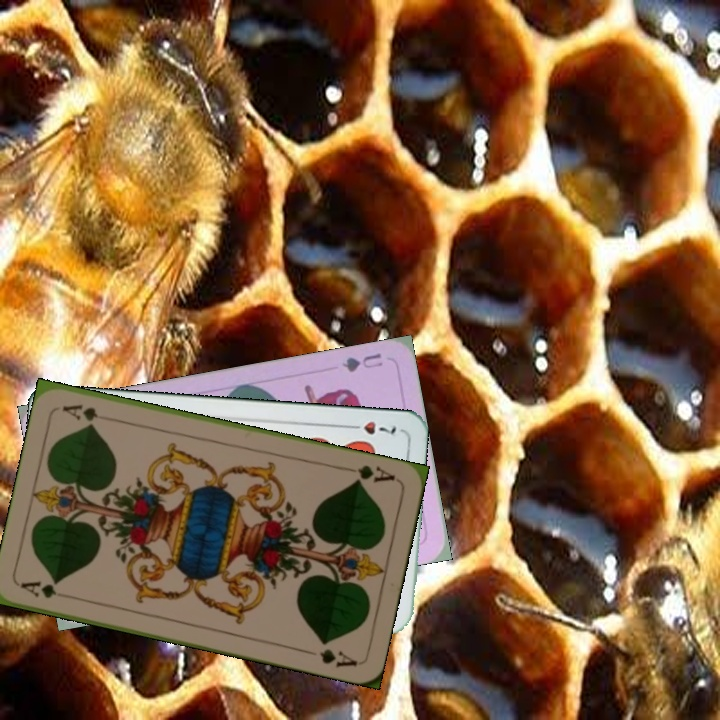GA: (341, 461, 398, 486), (17, 576, 60, 601)
GU: (338, 348, 386, 375)
H7: (343, 417, 399, 437)
